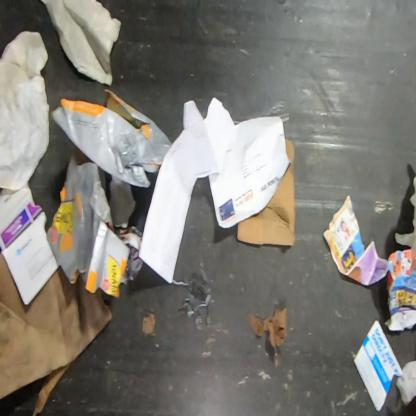cardboard: (46, 90, 173, 298), (0, 250, 114, 401), (0, 181, 60, 305), (236, 139, 296, 246), (31, 362, 73, 415), (249, 309, 288, 346)
